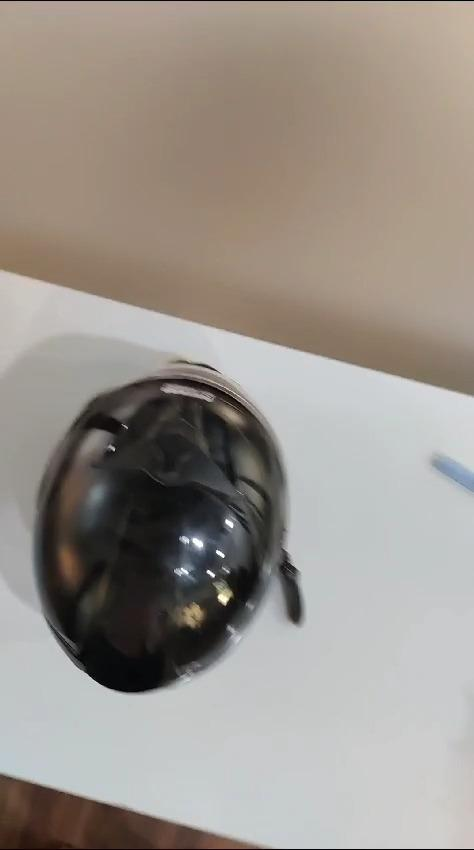Helmet: (32, 356, 279, 697)
